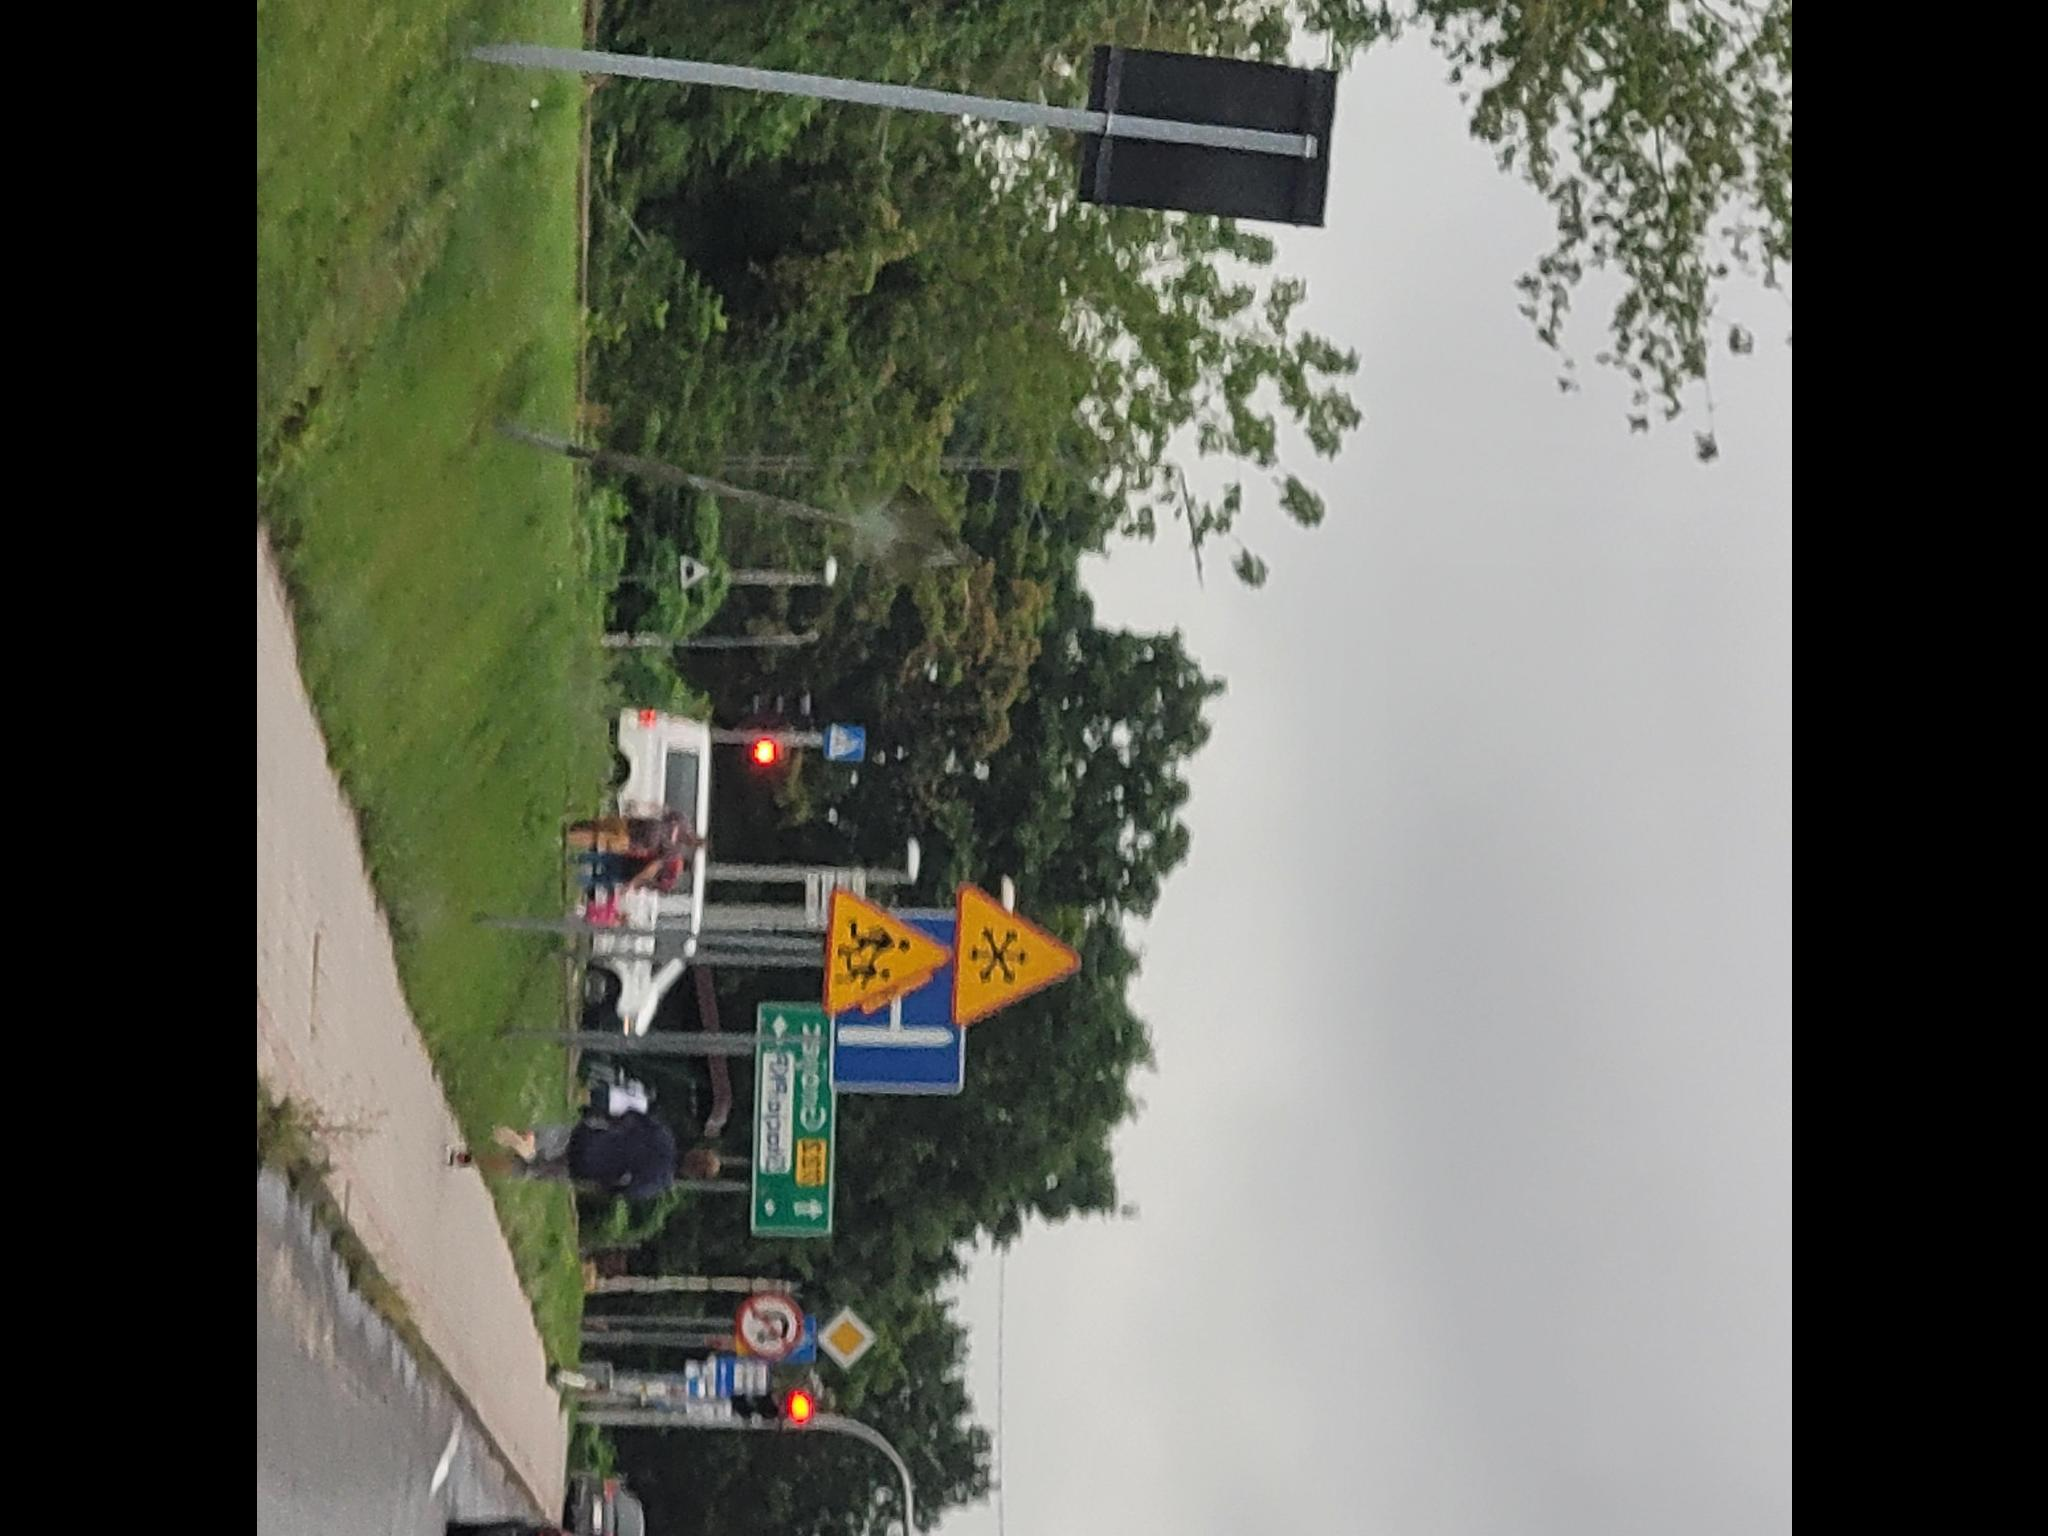direction-city: (748, 997, 835, 1239)
information: (813, 1307, 879, 1373), (824, 723, 864, 763)
other: (714, 1355, 768, 1396), (674, 552, 711, 591)
prohibitory: (734, 1289, 805, 1363)
warning: (948, 883, 1080, 1028), (821, 884, 956, 1016)
